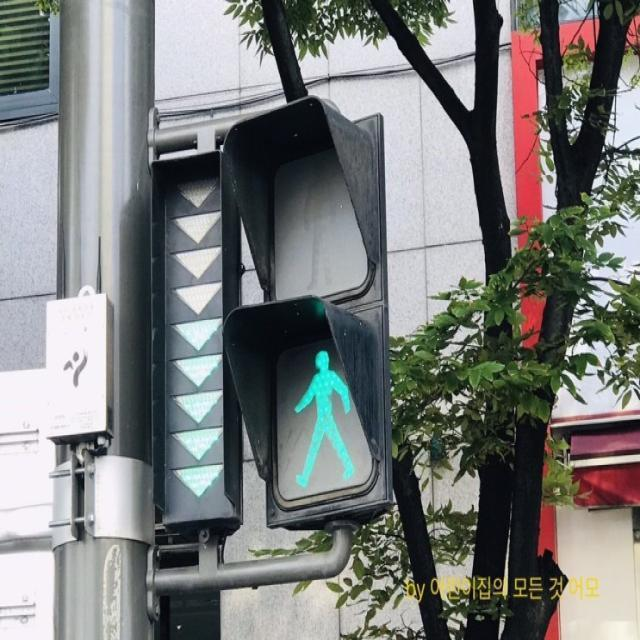green_light: (272, 348, 356, 490)
